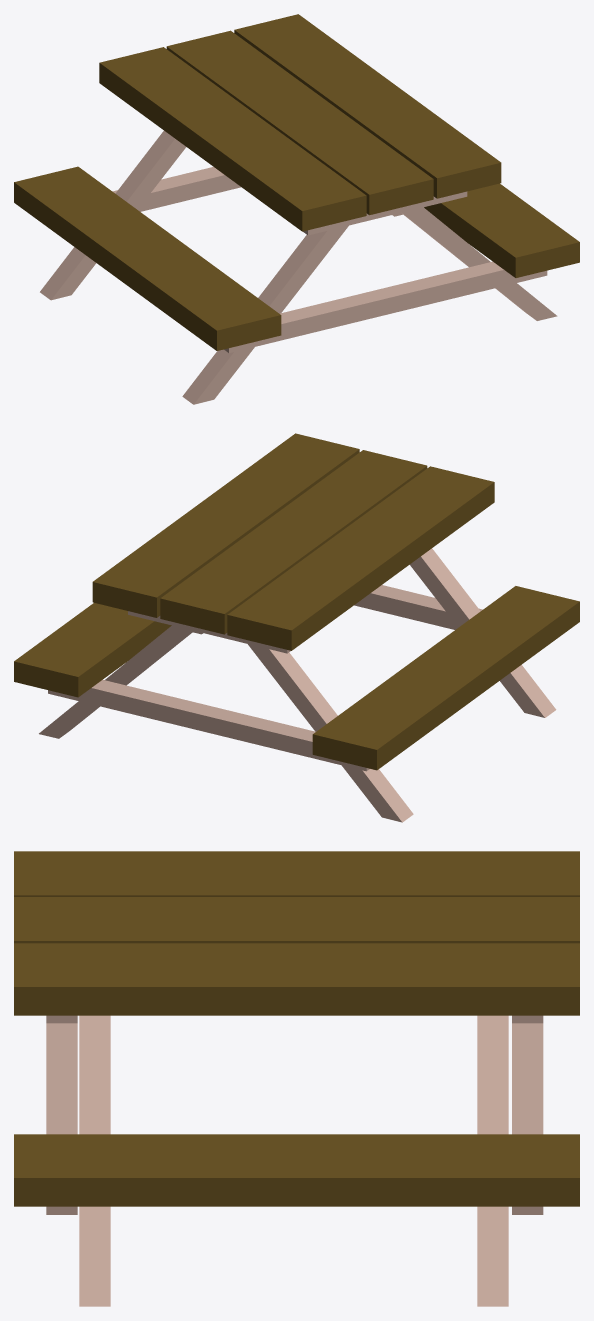
The model's file is PicnicTable.fbx.
The picture shows the model from 3 angles, top to bottom: view 1: azimuth 30°, elevation 25°; view 2: azimuth 150°, elevation 25°; view 3: azimuth 270°, elevation 25°; orthographic projection. The views are drawn at different scales.
Parts seen in each view (by area): view 1: pCube350; view 2: pCube350; view 3: pCube350.
Boxes of the visible parts, box(x1,y1,x2,y2) form: pCube350: box(14, 14, 579, 404); pCube350: box(14, 433, 579, 822); pCube350: box(14, 851, 579, 1306).
Size of the model in its own units: 2.07 by 1.03 by 2.
